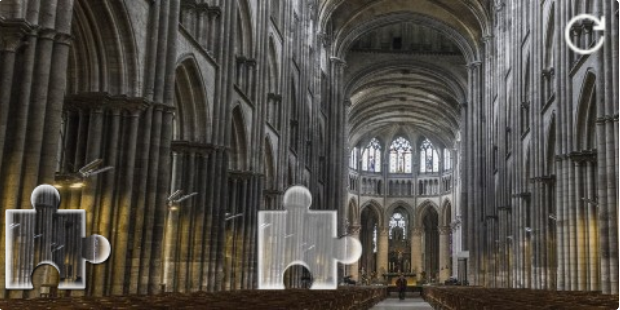target: (258, 185, 362, 290)
